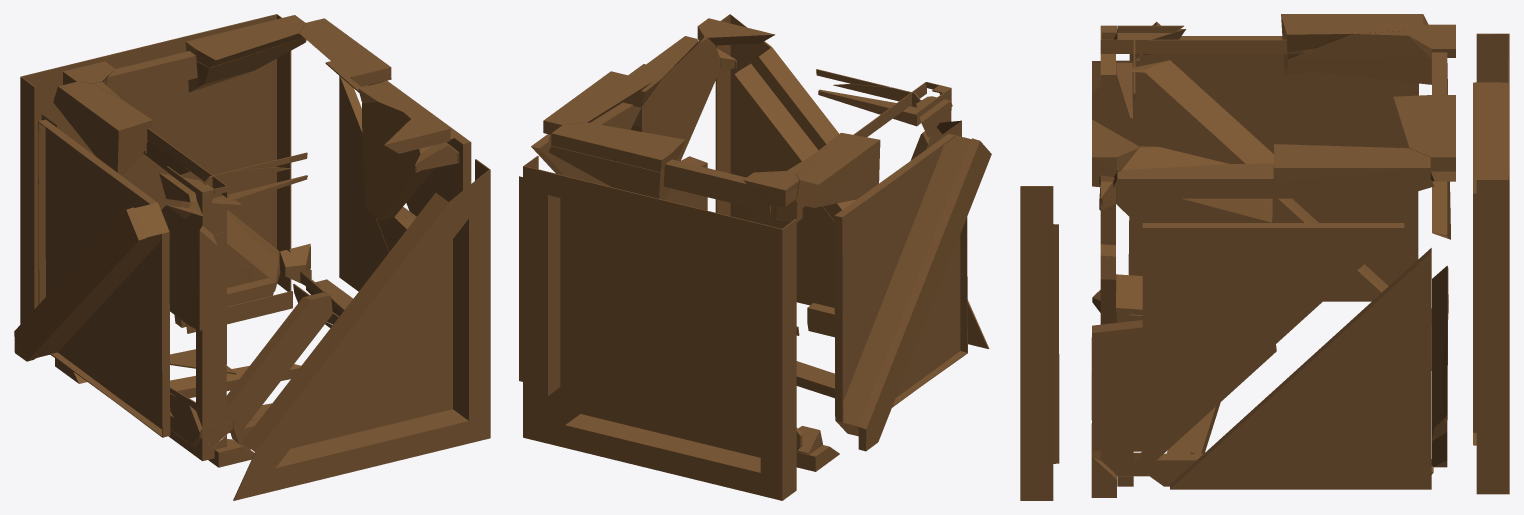
The model's file is crate-pieces.fbx.
The picture shows the model from 3 angles, left to right: view 1: azimuth 30°, elevation 25°; view 2: azimuth 150°, elevation 25°; view 3: azimuth 270°, elevation 25°; orthographic projection. The views are drawn at different scales.
Parts seen in each view (by area): view 1: crate_sidepiece3, crate_sidepiece2, crate_sidepiece1, crate_cell.055, crate_sidepiece4.001, crate_cell.020, crate_cell, crate_cell.042, crate_cell.032, crate_cell.052, crate_cell.009, crate_cell.078 (+20 smaller); view 2: crate_sidepiece1, crate_sidepiece2, crate_sidepiece3, crate_cell.042, crate_cell, crate_cell.032, crate_cell.052, crate_cell.078, crate_cell.059, crate_cell.076, crate_cell.005, crate_sidepiece4 (+13 smaller); view 3: crate_sidepiece4.001, crate_sidepiece4, crate_sidepiece2, crate_sidepiece1, crate_sidepiece3, crate_cell.020, crate_cell.003, crate_cell.078, crate_cell.042, crate_cell.054, crate_cell.076, crate_cell (+16 smaller).
Boxes of the visible parts, <box> form: crate_sidepiece3: <box>233,159,490,500</box>; crate_sidepiece2: <box>14,119,170,437</box>; crate_sidepiece1: <box>20,14,291,324</box>; crate_cell.055: <box>196,292,329,427</box>; crate_sidepiece4.001: <box>339,76,383,291</box>; crate_cell.020: <box>161,205,217,330</box>; crate_cell: <box>53,82,152,176</box>; crate_cell.042: <box>362,101,434,221</box>; crate_cell.032: <box>185,15,305,67</box>; crate_cell.052: <box>103,51,197,174</box>; crate_cell.009: <box>174,200,280,327</box>; crate_cell.078: <box>299,18,391,86</box>; crate_sidepiece1: <box>523,156,796,500</box>; crate_sidepiece2: <box>834,133,991,451</box>; crate_sidepiece3: <box>715,14,989,348</box>; crate_cell.042: <box>631,37,720,161</box>; crate_cell: <box>795,132,880,207</box>; crate_cell.032: <box>551,122,685,172</box>; crate_cell.052: <box>663,159,770,224</box>; crate_cell.078: <box>543,71,652,134</box>; crate_cell.059: <box>549,146,678,199</box>; crate_cell.076: <box>623,36,698,107</box>; crate_cell.005: <box>743,171,799,206</box>; crate_sidepiece4: <box>531,64,645,187</box>; crate_sidepiece4.001: <box>1170,248,1431,489</box>; crate_sidepiece4: <box>1142,223,1404,464</box>; crate_sidepiece2: <box>1128,21,1418,301</box>; crate_sidepiece1: <box>1473,33,1509,494</box>; crate_sidepiece3: <box>1020,186,1059,500</box>; crate_cell.020: <box>1092,60,1273,187</box>; crate_cell.003: <box>1091,320,1142,451</box>; crate_cell.078: <box>1274,144,1430,182</box>; crate_cell.042: <box>1114,146,1272,229</box>; crate_cell.054: <box>1287,30,1431,84</box>; crate_cell.076: <box>1113,163,1273,198</box>; crate_cell: <box>1281,14,1428,74</box>.
Size of the model in its own units: 2.64 by 2.31 by 2.82.
